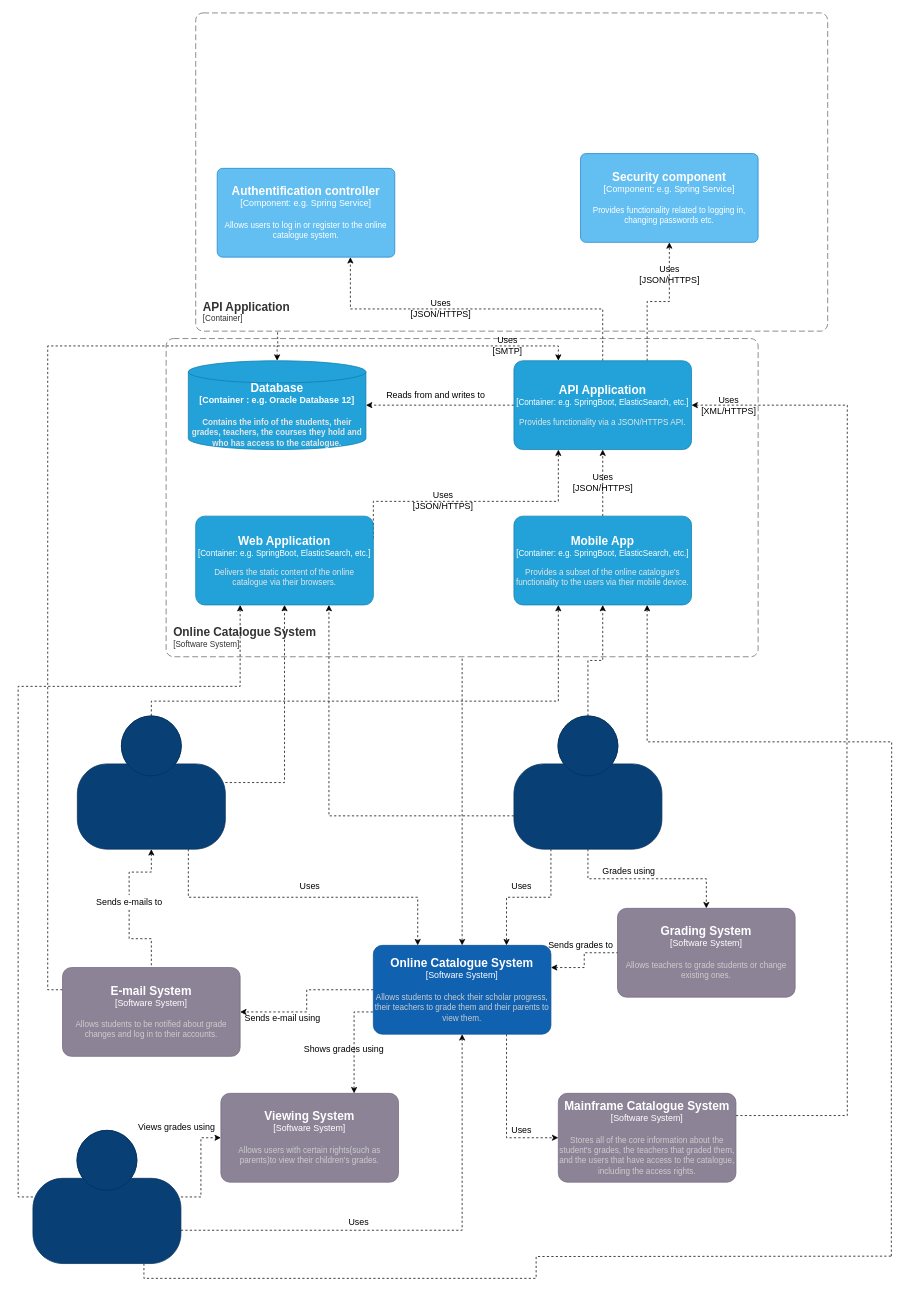
Some shapes in this 911 by 1292 pixel diagram are drawn without their labels. Here are the shapes that lost their labels. From the top down, the centre of each, then its label:
At [151,782]: "Student [Person] A person that gets graded".
At [587,782]: "Teacher [Person] A person that assigns grades".
At [106,1197]: "Parent [Person] A person that can see grades".
